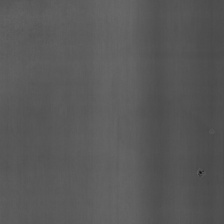rolled_pit: (196, 165, 205, 180), (208, 124, 214, 136)
